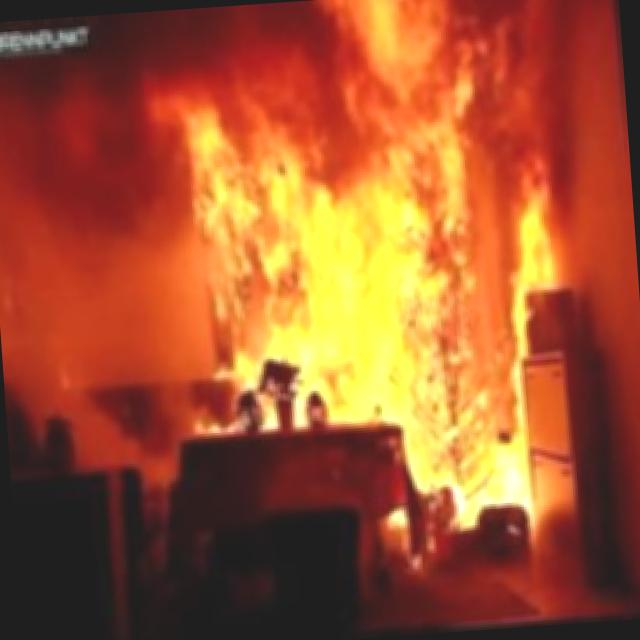fire: (122, 2, 601, 612)
